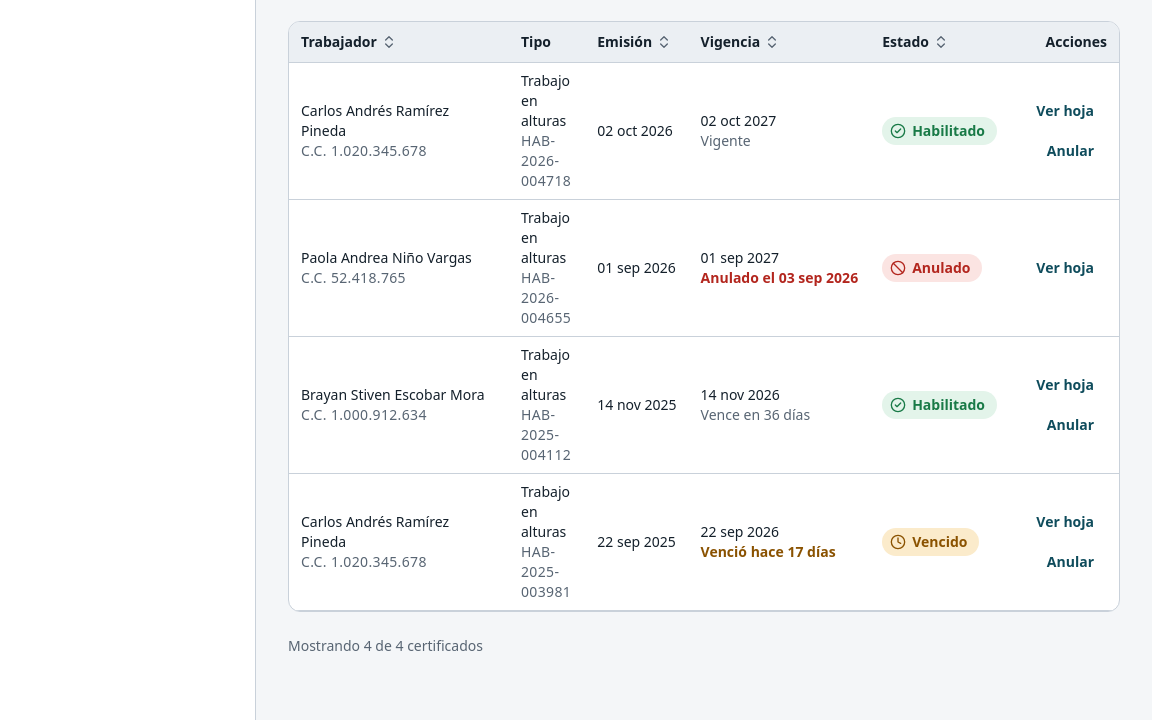
Test: CertificatesPage › annulling › shows a generic message on any other error
This screenshot has width=1152, height=720.
(page scrolled)
Check: the table named "Tabla de certificados" is shown, box [289, 22, 1119, 610]
Click the button with aria-label "Anular el certificado HAB-2025-003981" at (1070, 562), box [1034, 544, 1107, 580]
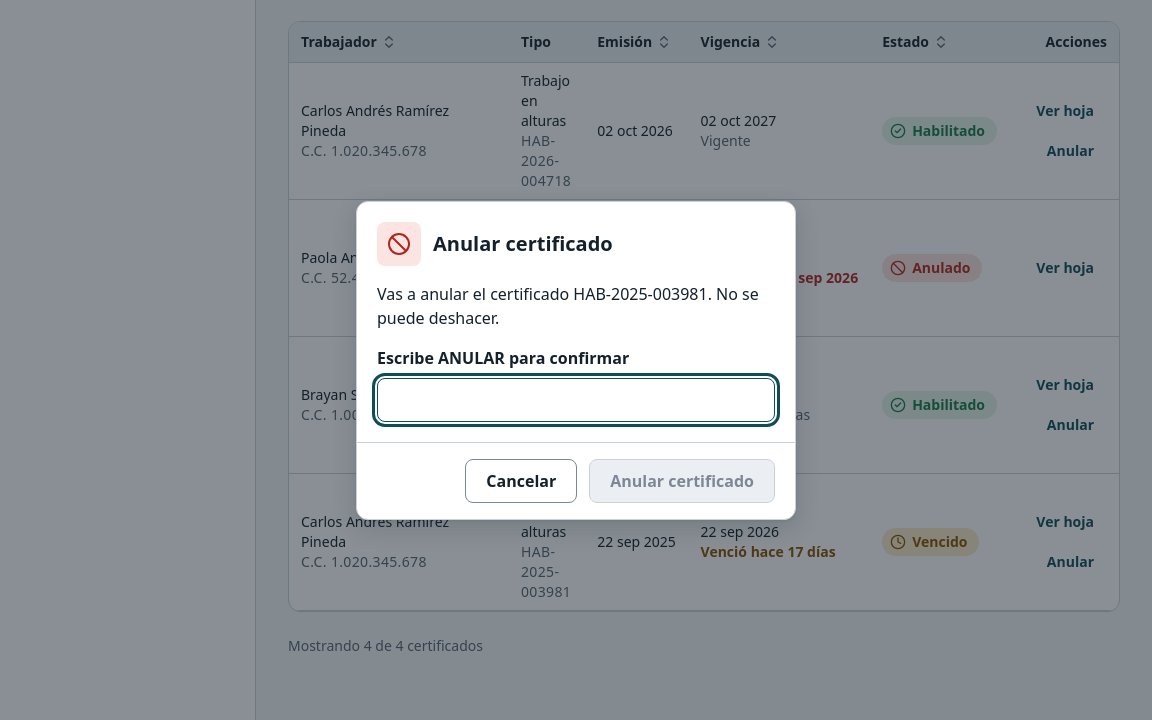
Type "anular" into the field labelled "Escribe ANULAR para confirmar" at (576, 400), box [377, 378, 775, 422]
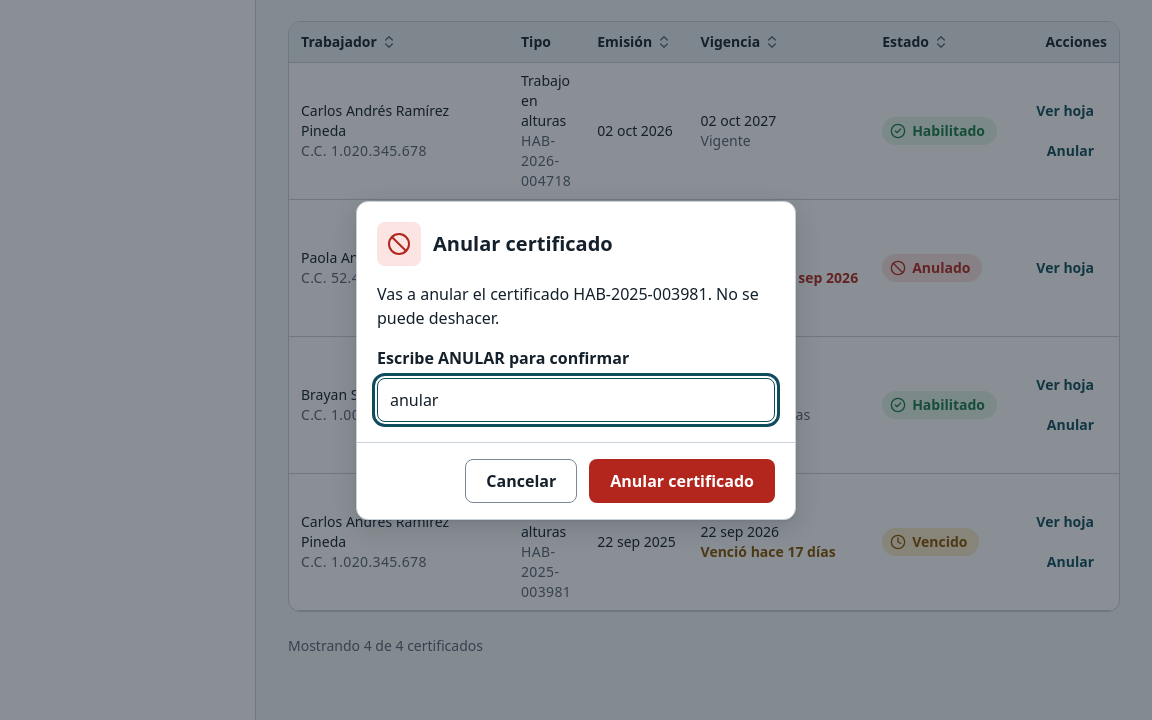
Click the button "Anular certificado" at (682, 480), box [589, 458, 775, 502]
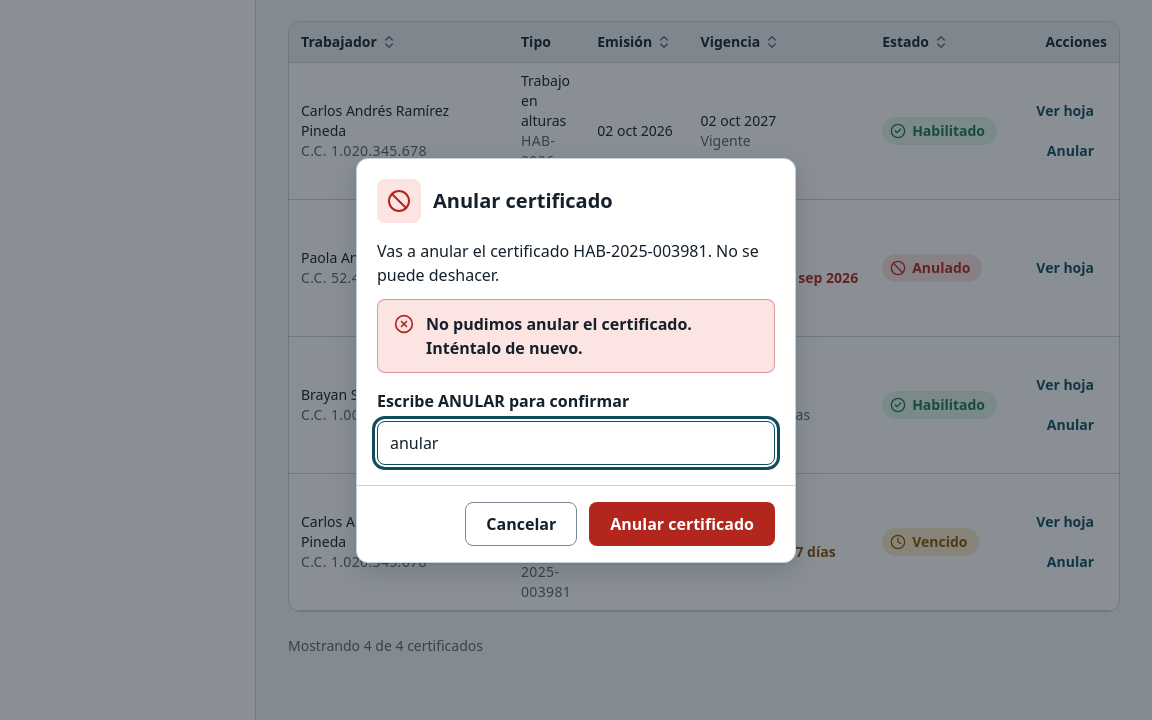
Check: the message reads "No pudimos anular el certificado. Inténtalo de nuevo.", box [426, 312, 692, 358]
